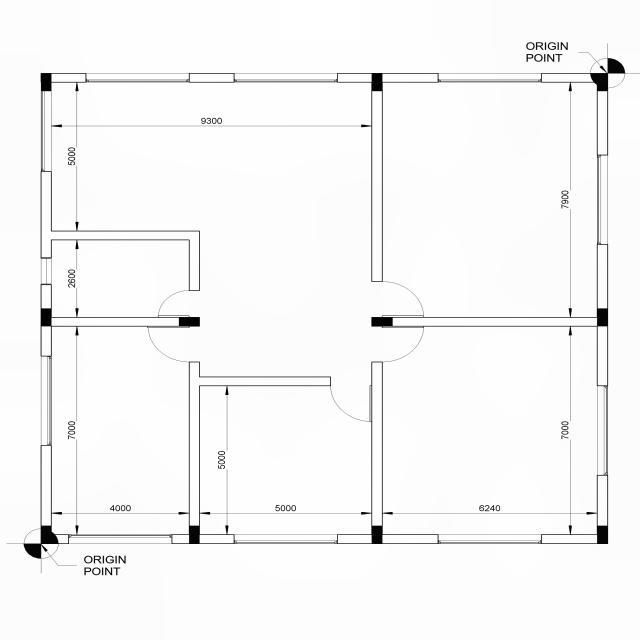Column: (371, 317, 393, 327), (596, 526, 608, 544), (596, 308, 608, 326), (371, 73, 383, 91), (179, 317, 200, 327), (40, 526, 51, 544), (189, 526, 200, 544), (597, 73, 608, 91), (40, 73, 51, 91), (40, 308, 51, 326), (372, 526, 382, 544), (590, 73, 597, 83), (52, 534, 58, 544)
Door: (330, 376, 372, 422), (371, 281, 424, 317), (147, 327, 200, 362), (371, 327, 424, 362), (158, 290, 200, 317)
Window: (596, 386, 608, 476), (438, 534, 542, 544), (234, 534, 338, 544), (68, 534, 172, 544), (86, 73, 190, 83), (234, 73, 338, 83), (438, 73, 542, 83), (40, 356, 51, 446), (597, 155, 608, 245), (40, 91, 51, 172), (40, 258, 51, 286)
